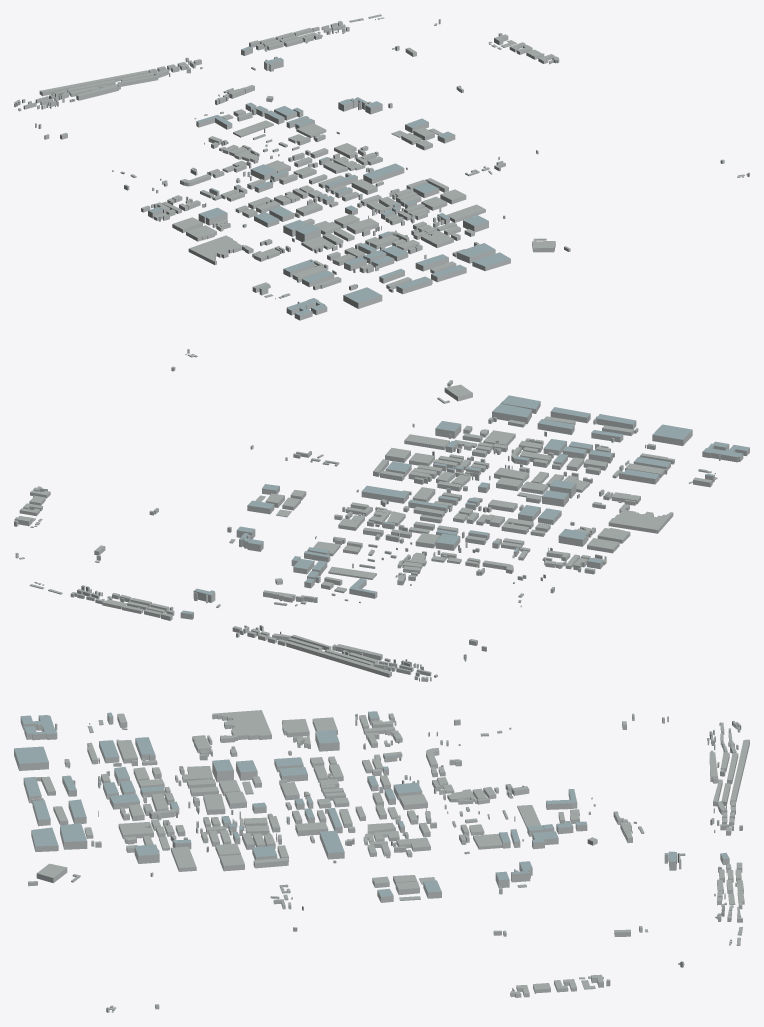
The model's file is far.glb.
3 views of the same model, one above another, from view 1: azimuth 30°, elevation 25°; view 2: azimuth 150°, elevation 25°; view 3: azimuth 270°, elevation 25° (orthographic). The views are drawn at different scales.
Bounding box in the file's own units: 2083 × 35.35 × 2169.
